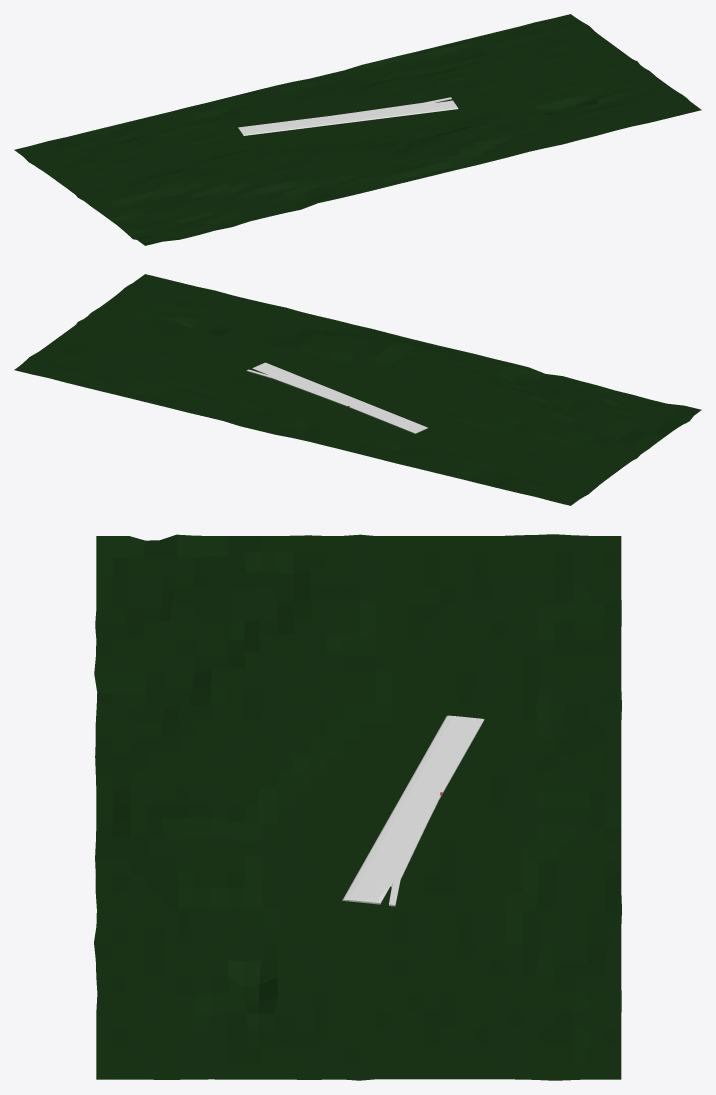
The model's file is topography.fbx.
3 views of the same model, one above another, from view 1: azimuth 30°, elevation 25°; view 2: azimuth 150°, elevation 25°; view 3: azimuth 270°, elevation 25° (orthographic). The views are drawn at different scales.
Visible parts, largest first — view 1: Plane, Cube.007; view 2: Plane, Cube.007; view 3: Plane, Cube.007.
Part boxes in pixels (x1,y1,x2,y2): Plane: (14, 14, 701, 245); Cube.007: (238, 97, 458, 135); Plane: (14, 274, 701, 505); Cube.007: (246, 362, 427, 433); Plane: (94, 534, 621, 1080); Cube.007: (342, 715, 484, 906).
Size of the model in its own units: 159380 by 2100 by 65081.
